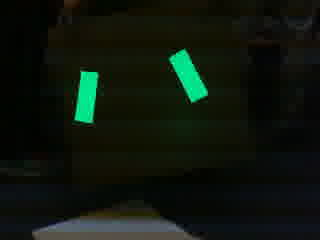target: (72, 48, 208, 127)
